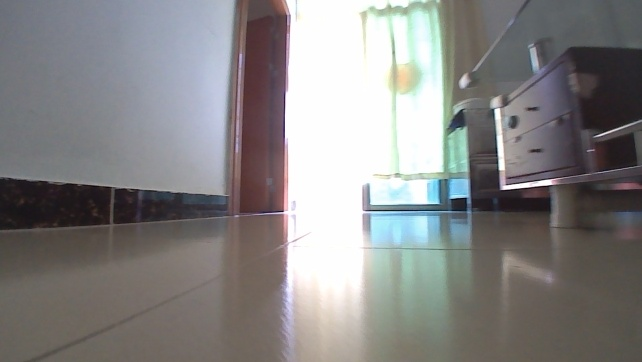tea_table1: (455, 0, 641, 230)
